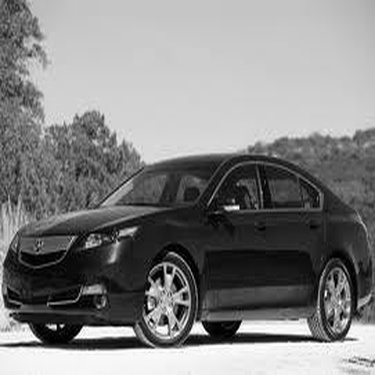car: (2, 143, 371, 350)
